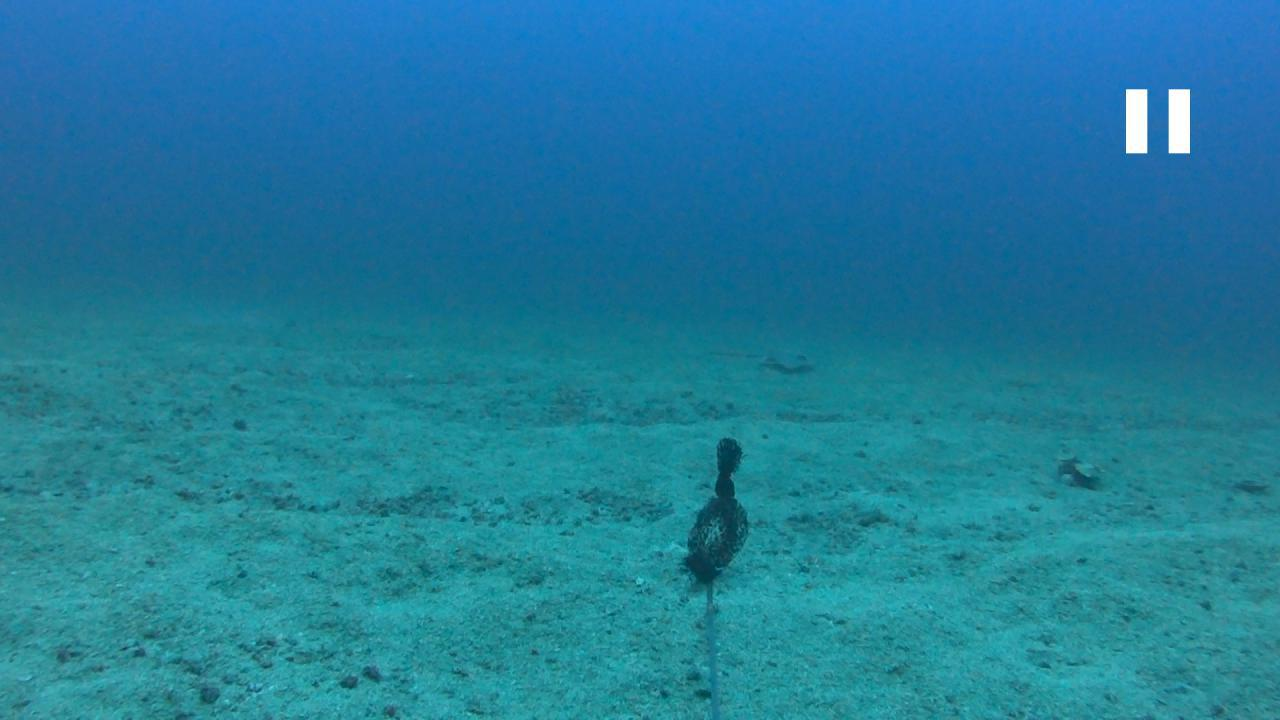dasyatis: (710, 346, 814, 371)
